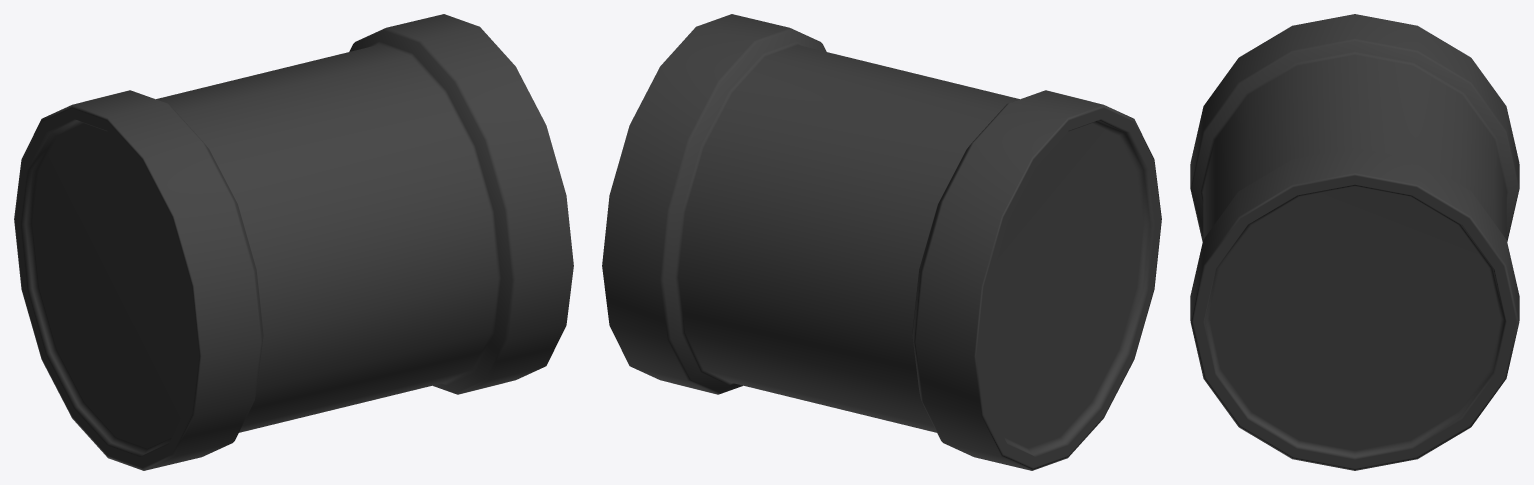
The model's file is colony_Connecting_gateway_lit.glb.
The picture shows the model from 3 angles, left to right: view 1: azimuth 30°, elevation 25°; view 2: azimuth 150°, elevation 25°; view 3: azimuth 270°, elevation 25°; orthographic projection. The views are drawn at different scales.
Visible parts, largest first — view 1: Connecting_gateway_lit; view 2: Connecting_gateway_lit; view 3: Connecting_gateway_lit.
Boxes of the visible parts, x1,y1,x2,y2 form: Connecting_gateway_lit: (14, 14, 573, 470); Connecting_gateway_lit: (602, 14, 1161, 470); Connecting_gateway_lit: (1190, 14, 1519, 470).
Bounding box in the file's own units: 316 × 276 × 276.
Materials: 1 (1 with a texture image).
